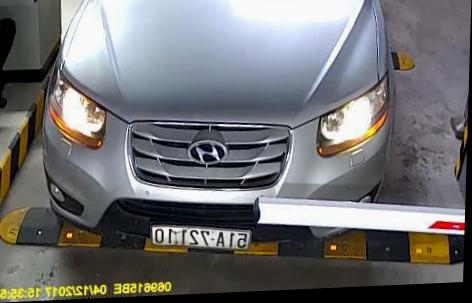License_Plate: (144, 223, 255, 254)
